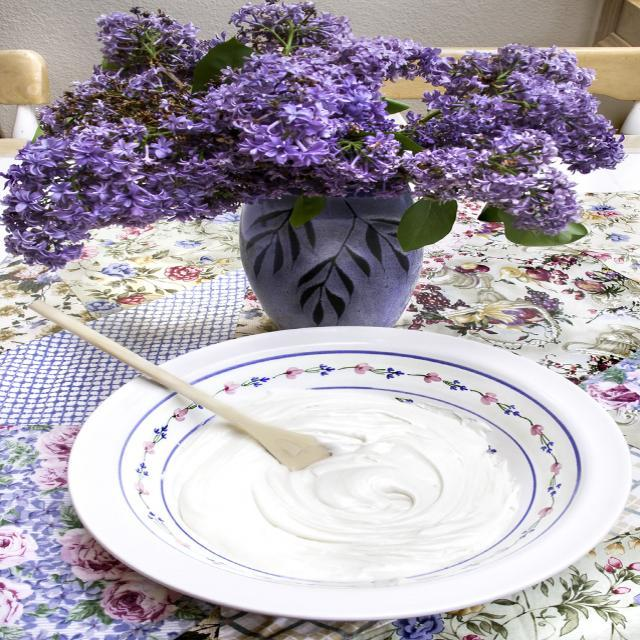ceramic plate: (23, 324, 597, 632)
